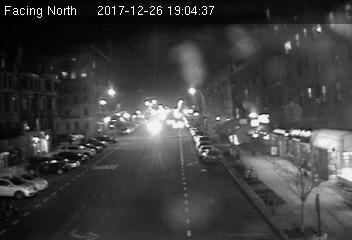car: (202, 149, 221, 162)
